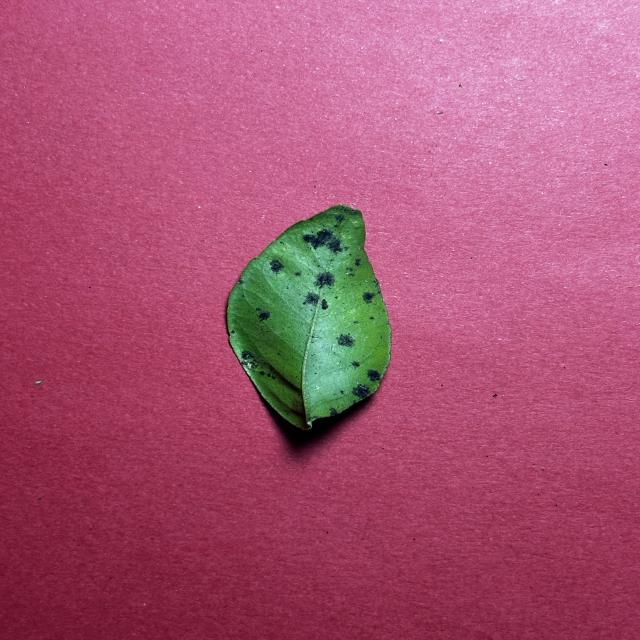sooty_mold: (228, 205, 390, 429)
